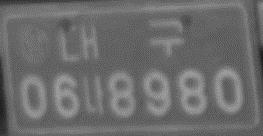0: (213, 66, 244, 115), (18, 73, 49, 119)
6: (52, 73, 80, 120)
8: (177, 68, 208, 116), (109, 69, 137, 119)
9: (143, 69, 173, 118)
나: (80, 73, 108, 119)
대구_D: (57, 18, 186, 66)
영: (18, 23, 51, 65)
